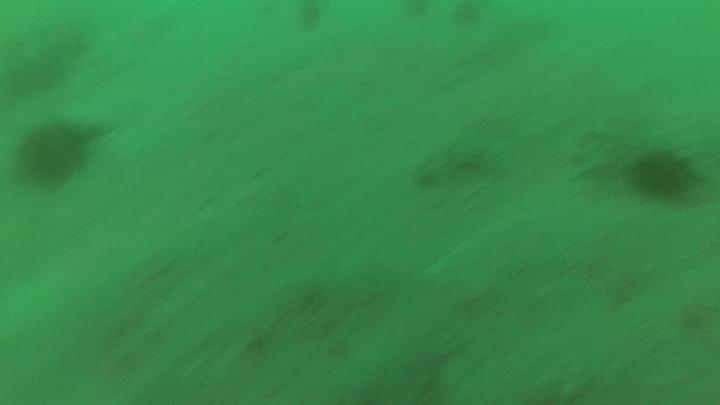echinus: (14, 116, 95, 191), (627, 144, 700, 203)
